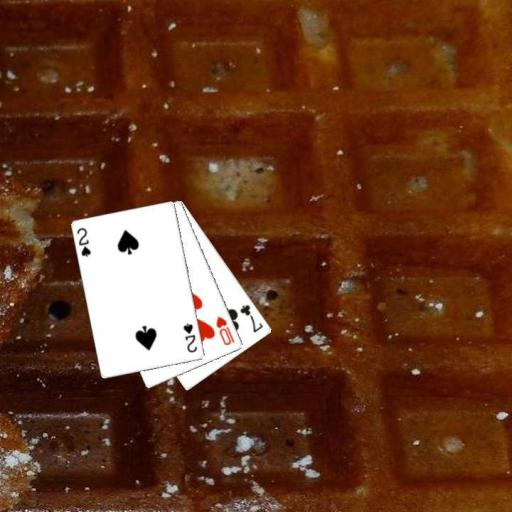10H: (213, 313, 236, 347)
2S: (181, 320, 199, 354), (74, 225, 92, 259)
7C: (237, 302, 264, 334)
